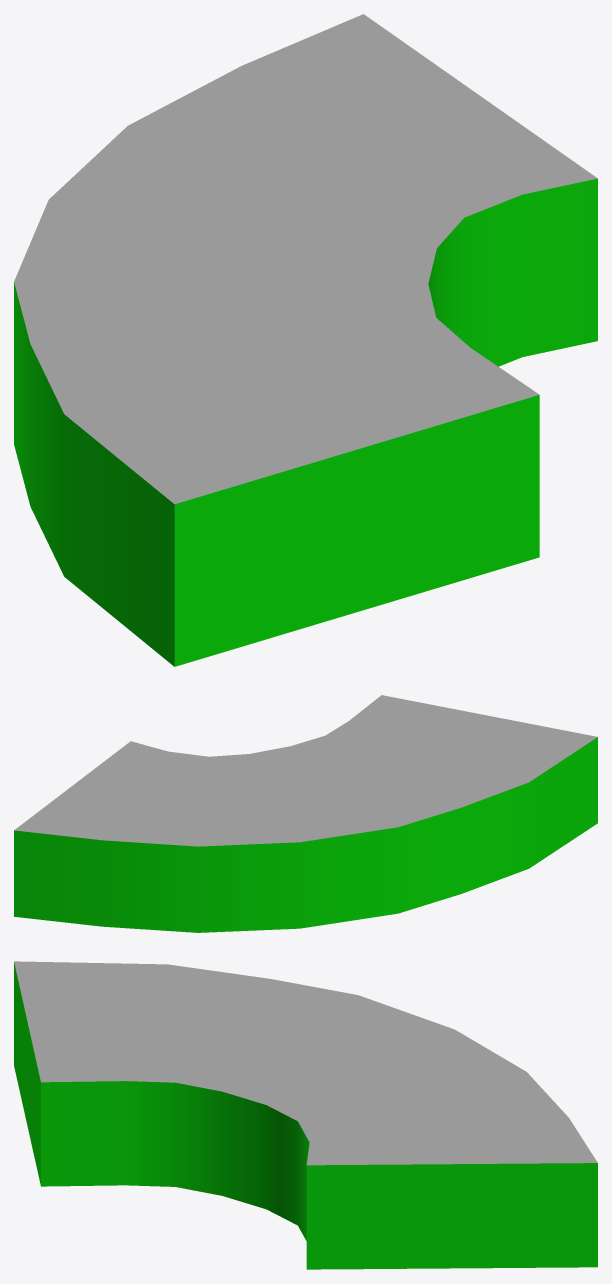
File: Fild_Curv02.fbx
3 views of the same model, one above another, from view 1: azimuth 30°, elevation 25°; view 2: azimuth 150°, elevation 25°; view 3: azimuth 270°, elevation 25° (orthographic). The views are drawn at different scales.
Visible parts, largest first — view 1: pCube6; view 2: pCube6; view 3: pCube6.
Part boxes in pixels (left/top/right/bottom): pCube6: left=14, top=14, right=597, bottom=666; pCube6: left=14, top=695, right=597, bottom=932; pCube6: left=14, top=961, right=597, bottom=1269.
Bounding box in the file's own units: 2236 × 533 × 2707.
